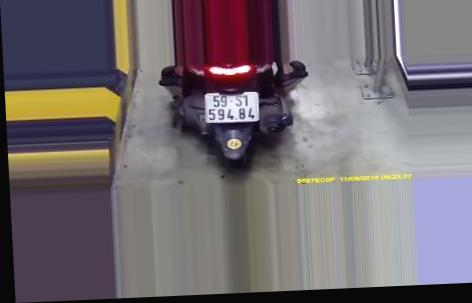License_Plate: (200, 90, 263, 127)
